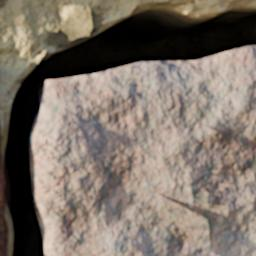brick: (30, 47, 255, 255), (0, 151, 7, 255)
crack: (2, 0, 255, 255)
